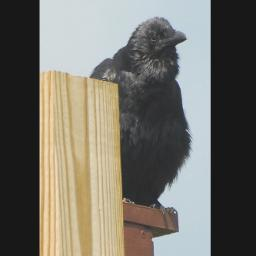Crow: (91, 16, 194, 214)
